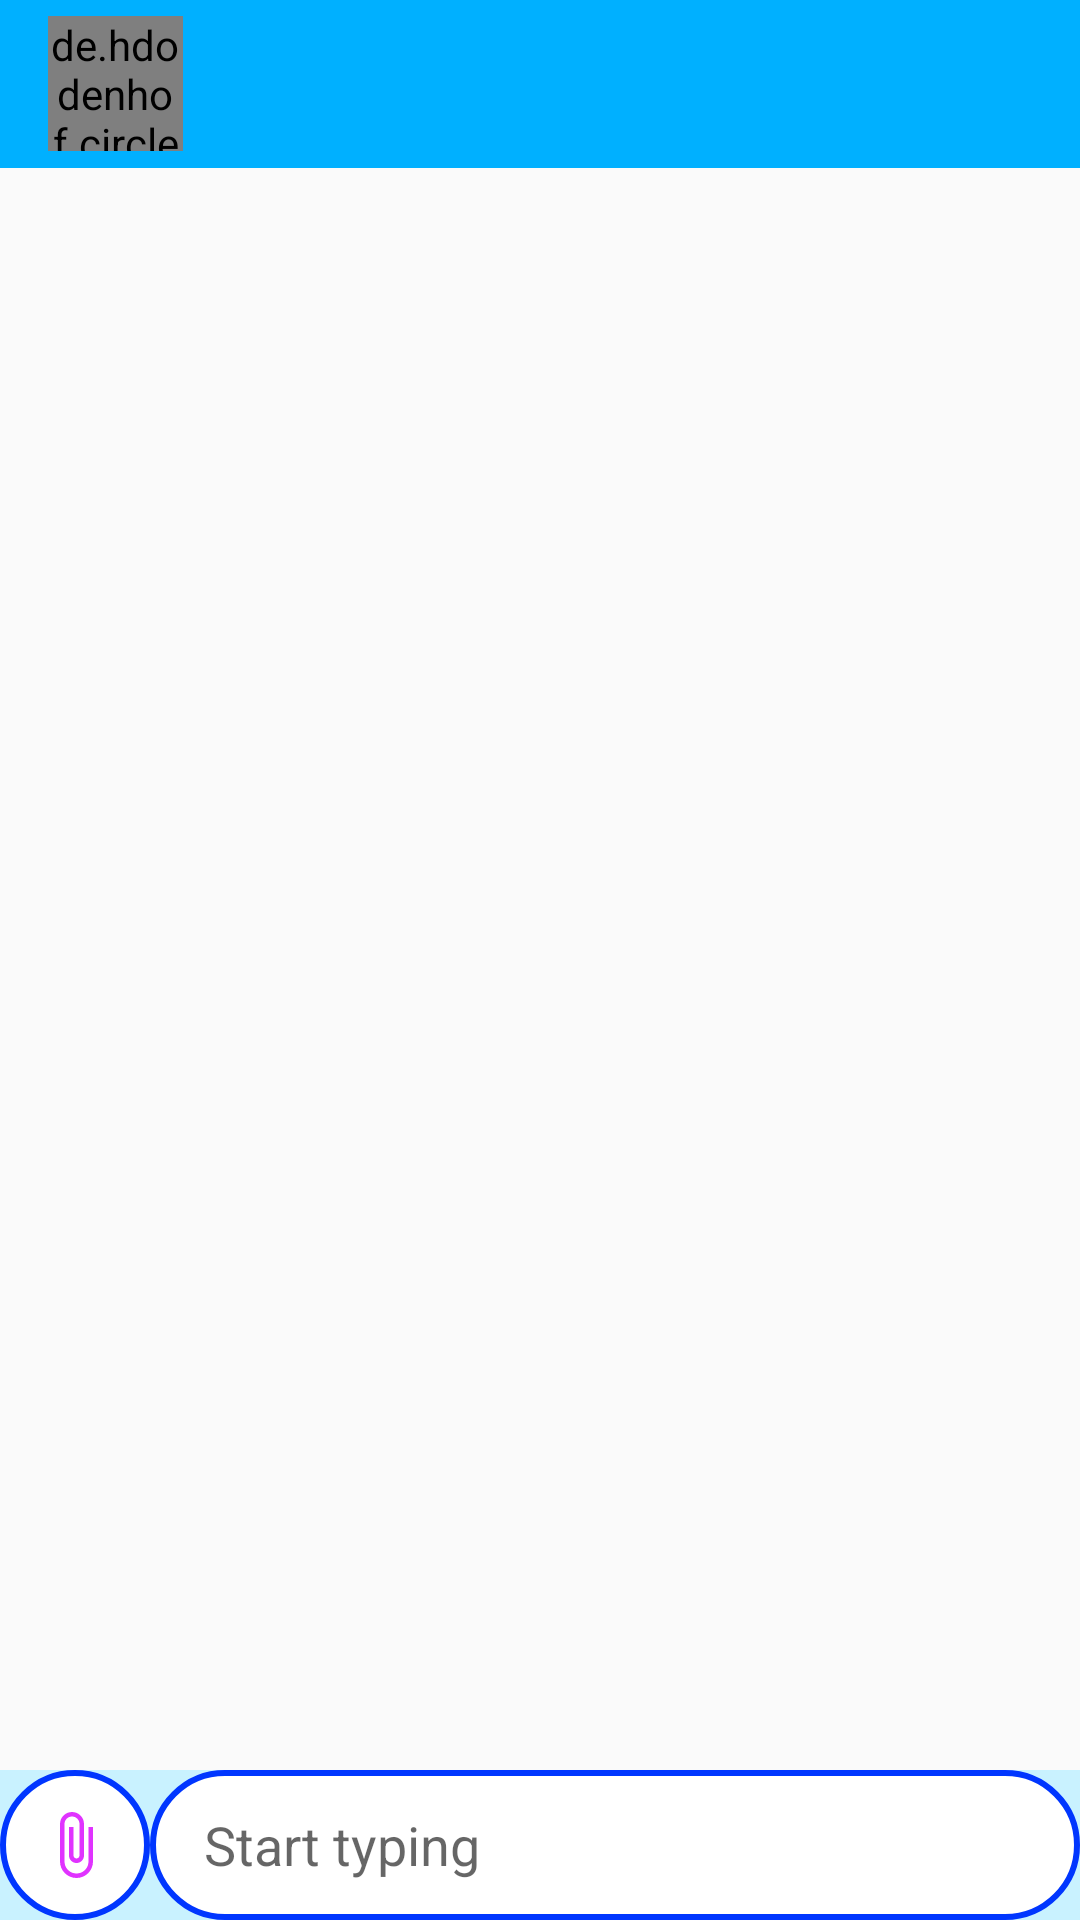

Named icons in this screenshot (1080w x 1920h) and their centers, (x,y):
attach: (75,1845)
